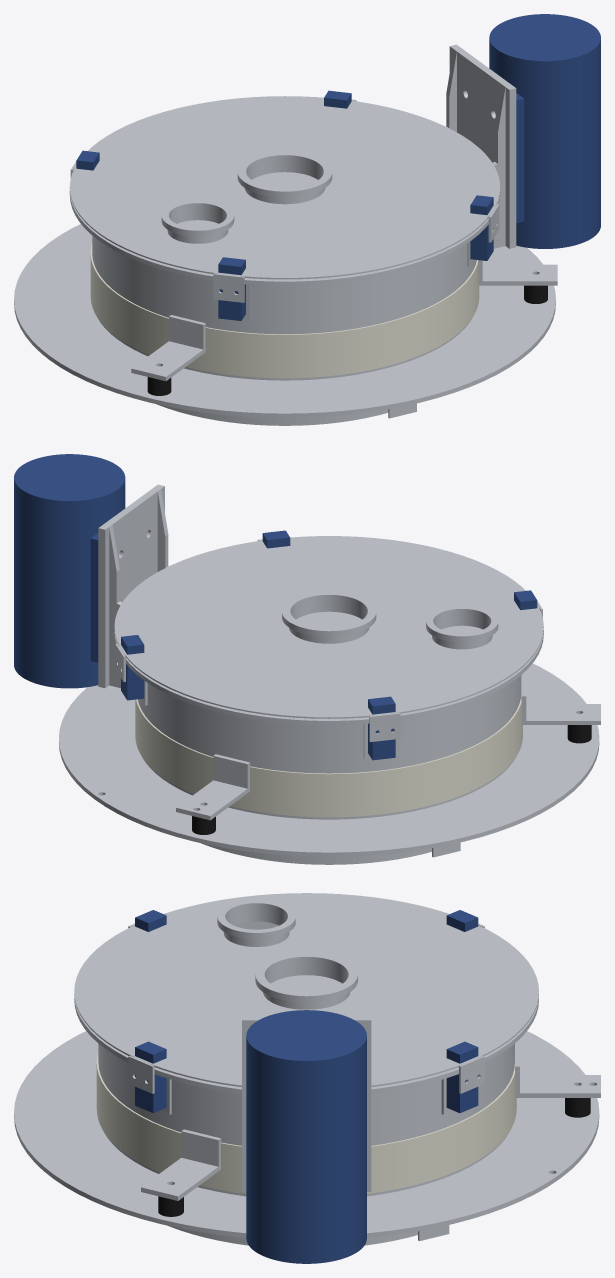
The model's file is P1-304-ASM.glb.
3 renders of one model, top to bottom at view 1: azimuth 30°, elevation 25°; view 2: azimuth 150°, elevation 25°; view 3: azimuth 270°, elevation 25°, orthographic. The views are drawn at different scales.
Visible parts, largest first — view 1: P1-304-301, P1-304-101, P1-306, P1-304-201, P1-344, P1-304-206, P1-304-302, P1-304-205, P1-304-202, P1-342, P1-304-103, P1-304-304 (+3 smaller); view 2: P1-304-301, P1-304-101, P1-306, P1-304-201, P1-344, P1-304-206, P1-304-302, P1-304-205, P1-304-202, P1-342, P1-304-103, P1-304-304 (+3 smaller); view 3: P1-304-301, P1-304-101, P1-306, P1-344, P1-304-201, P1-304-302, P1-304-205, P1-342, P1-304-202, P1-304-206, P1-304-304, P1-341 (+3 smaller).
Boxes of the visible parts, box(x1,y1,x2,y2) form: P1-304-301: box(69, 96, 500, 279); P1-304-101: box(14, 224, 555, 417); P1-306: box(489, 14, 600, 248); P1-304-201: box(92, 236, 476, 334); P1-344: box(90, 243, 479, 378); P1-304-206: box(445, 44, 516, 248); P1-304-302: box(161, 151, 332, 243); P1-304-205: box(131, 260, 557, 381); P1-304-202: box(69, 190, 500, 285); P1-342: box(76, 90, 493, 320); P1-304-103: box(157, 404, 388, 425); P1-304-304: box(70, 99, 499, 302); P1-304-301: box(114, 536, 543, 718); P1-304-101: box(59, 663, 599, 856); P1-306: box(14, 454, 125, 688); P1-304-201: box(137, 675, 521, 773); P1-344: box(135, 696, 522, 817); P1-304-206: box(98, 484, 168, 688); P1-304-302: box(282, 591, 498, 649); P1-304-205: box(176, 679, 600, 820); P1-304-202: box(114, 630, 543, 725); P1-342: box(121, 530, 537, 760); P1-304-103: box(201, 843, 431, 864); P1-304-304: box(115, 539, 542, 742); P1-304-301: box(74, 893, 538, 1086); P1-304-101: box(14, 1031, 599, 1237); P1-306: box(246, 1010, 366, 1263); P1-344: box(96, 1052, 516, 1193); P1-304-201: box(98, 921, 514, 1145); P1-304-302: box(217, 900, 357, 1009); P1-304-205: box(141, 1048, 600, 1200); P1-342: box(135, 910, 478, 1113); P1-304-202: box(74, 996, 538, 1093); P1-304-206: box(242, 1016, 371, 1191); P1-304-304: box(128, 923, 484, 1093); P1-341: box(158, 1098, 590, 1216).
Bounding box in the file's own units: 787 × 340 × 682.
